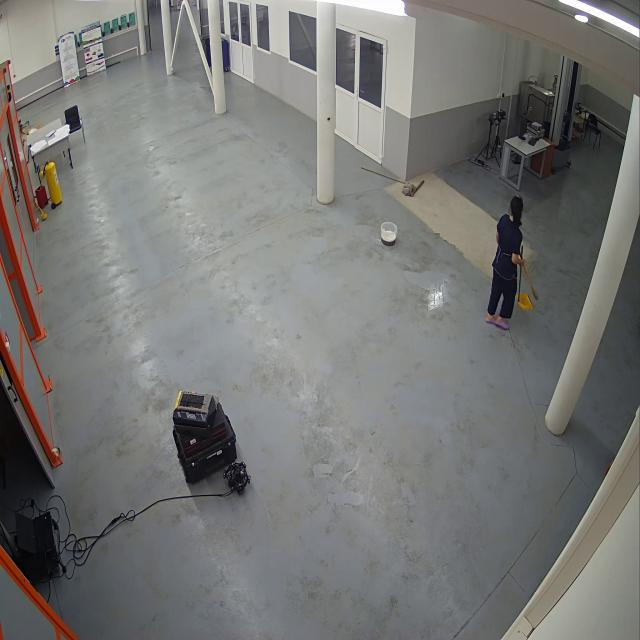NO-Hardhat: (510, 194, 528, 208)
Person: (486, 189, 541, 331)
